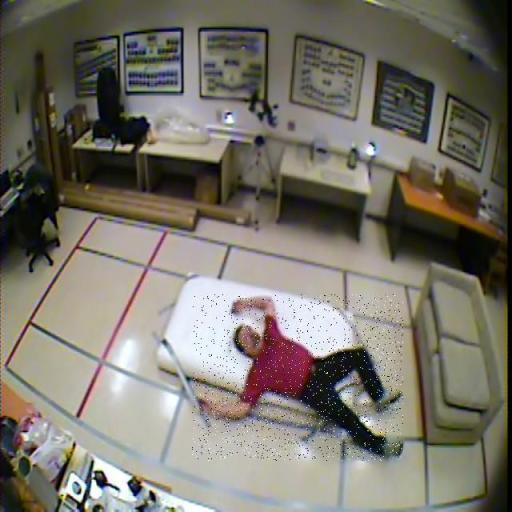Fall: (192, 294, 403, 461)
